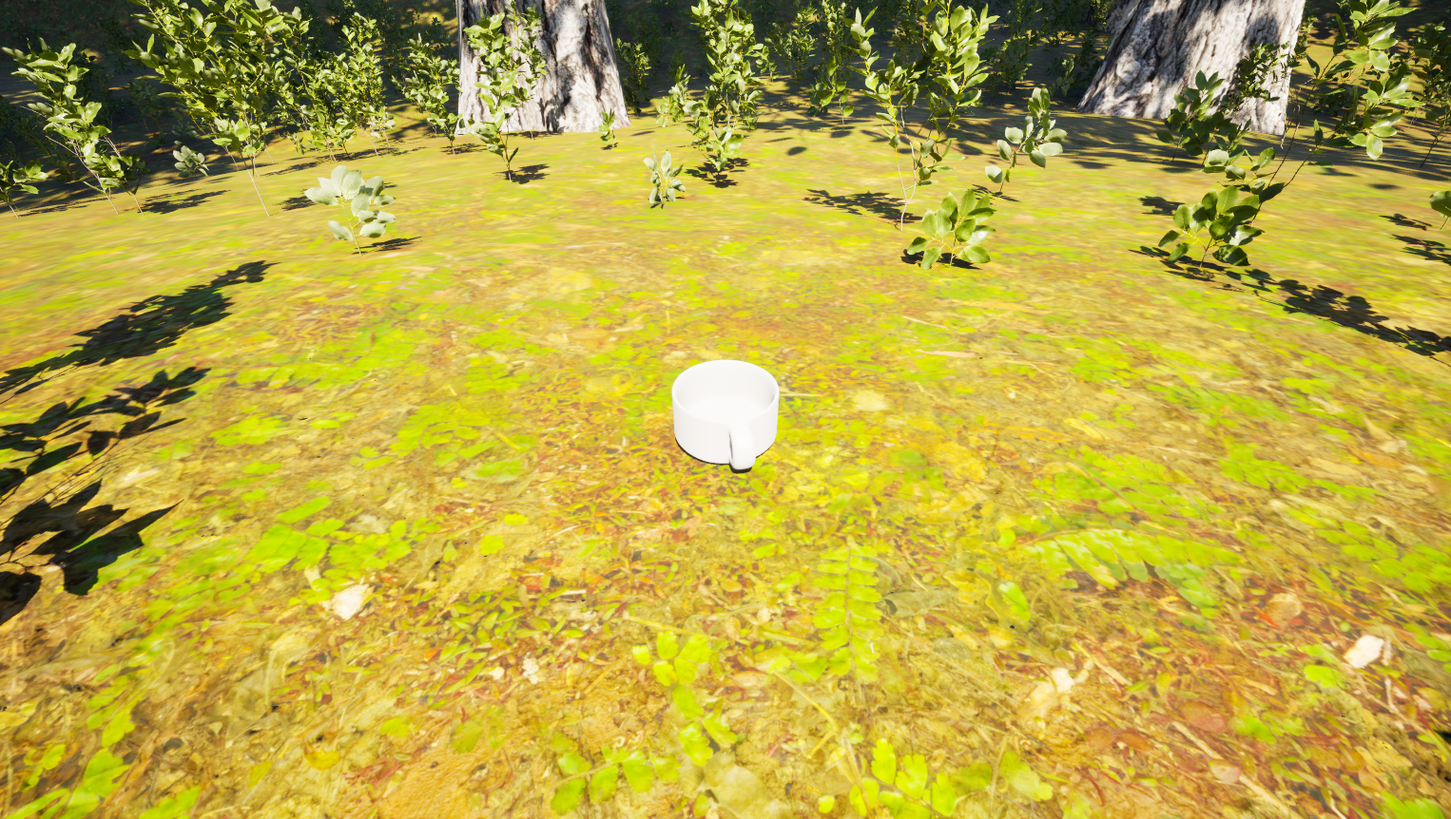Teacup: (646, 352, 791, 487)
